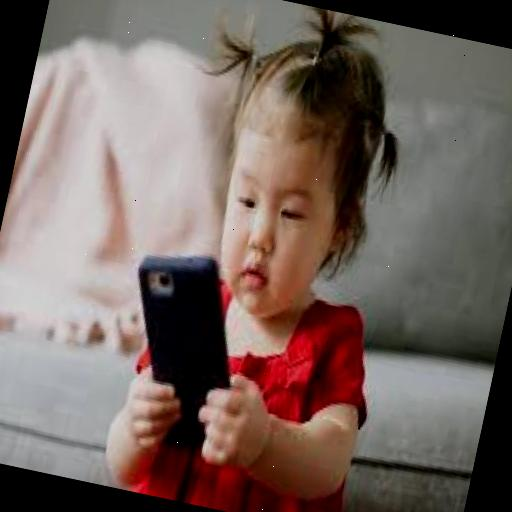phone: (104, 244, 282, 470)
